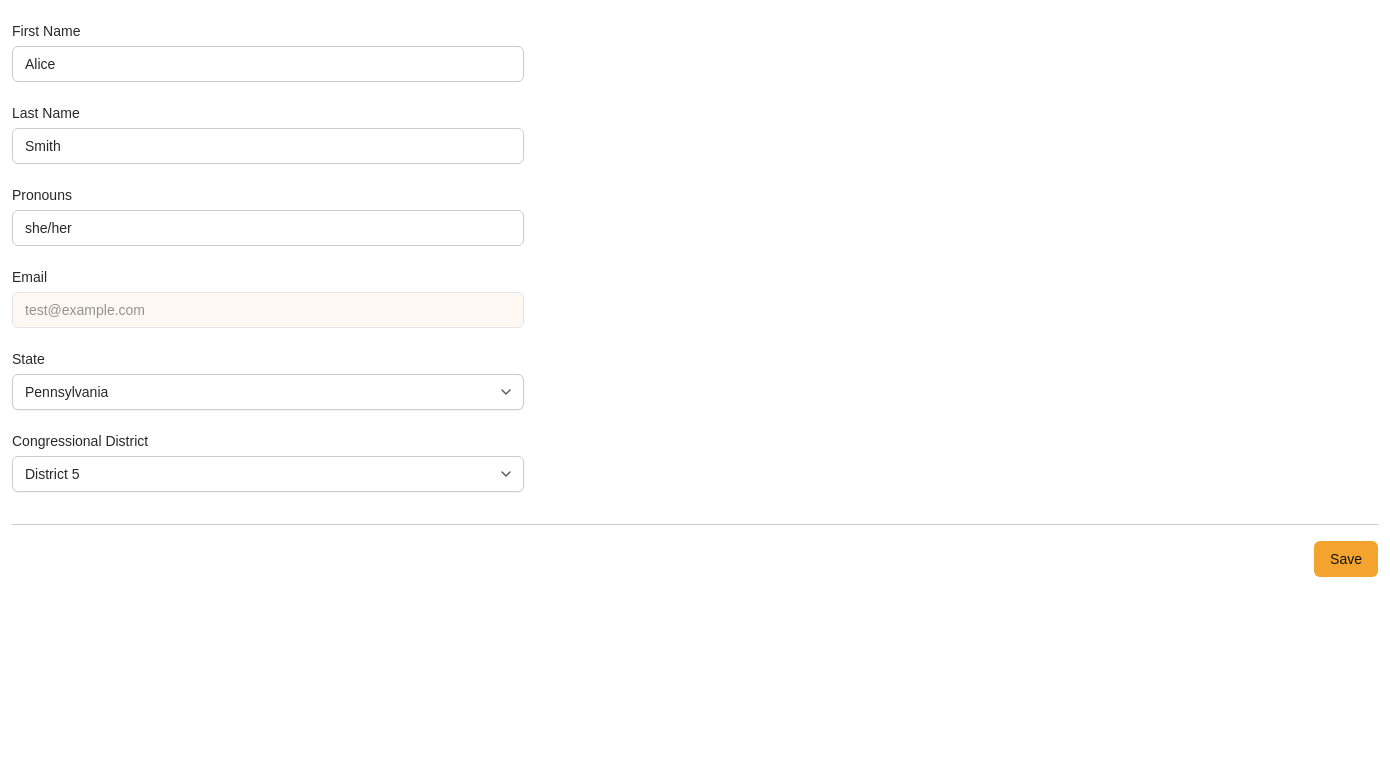
it: ProfileForm › shows error message when save fails
Expected: the field labelled "First Name" is shown, left=12, top=46, right=524, bottom=82
What coordinates should you click on to do the following:
click the button "Save"
I would click on:
 (1346, 559)
Its box is left=1314, top=541, right=1378, bottom=577.
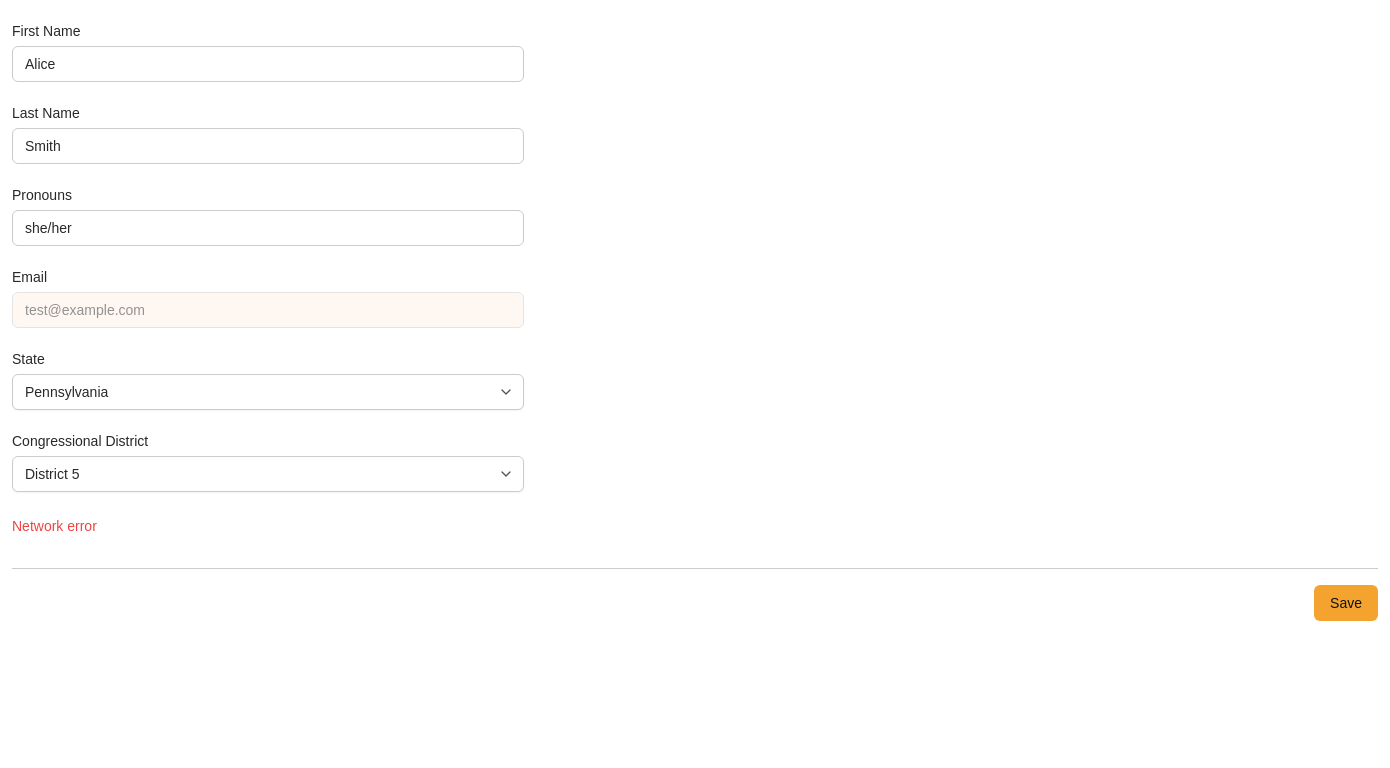
Expected: the text "Network error" is shown, left=12, top=518, right=97, bottom=534
